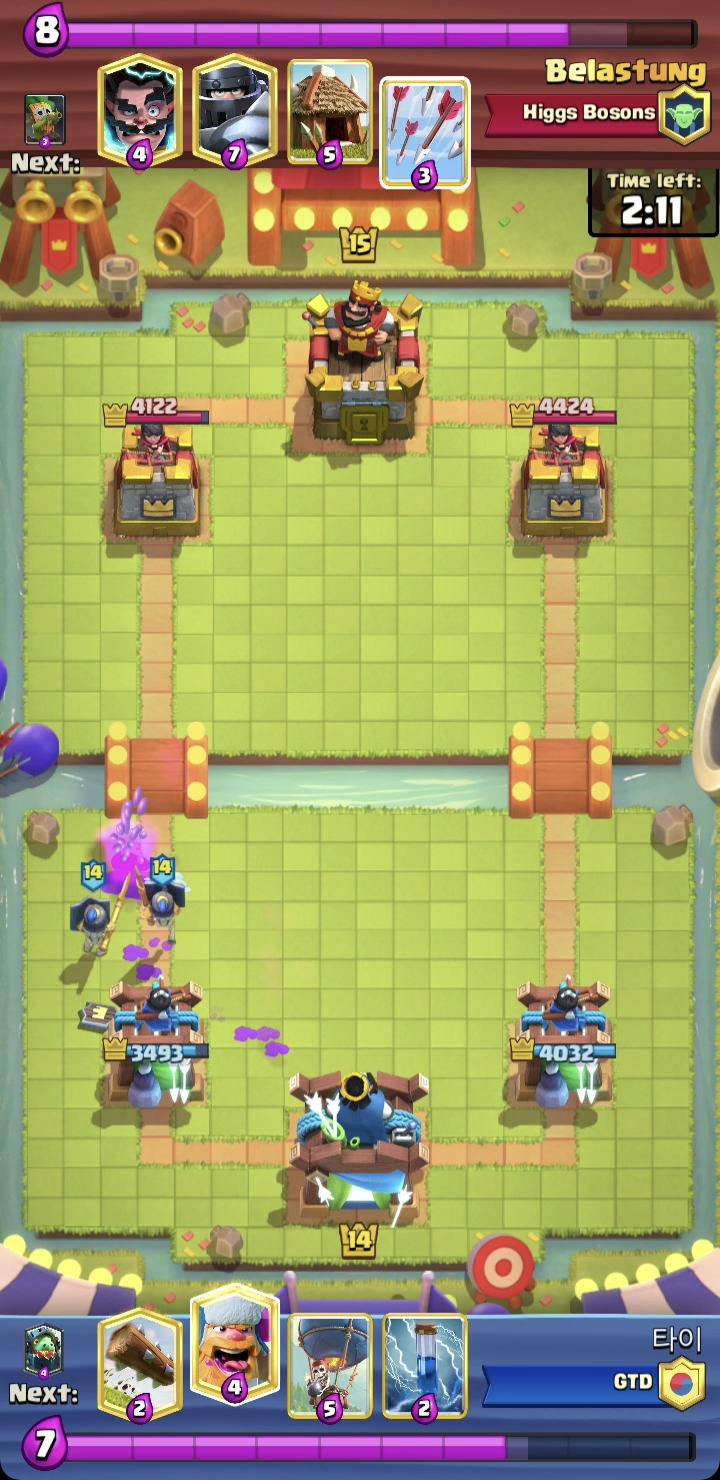ally_guard: (67, 857, 133, 962), (133, 853, 187, 947)
